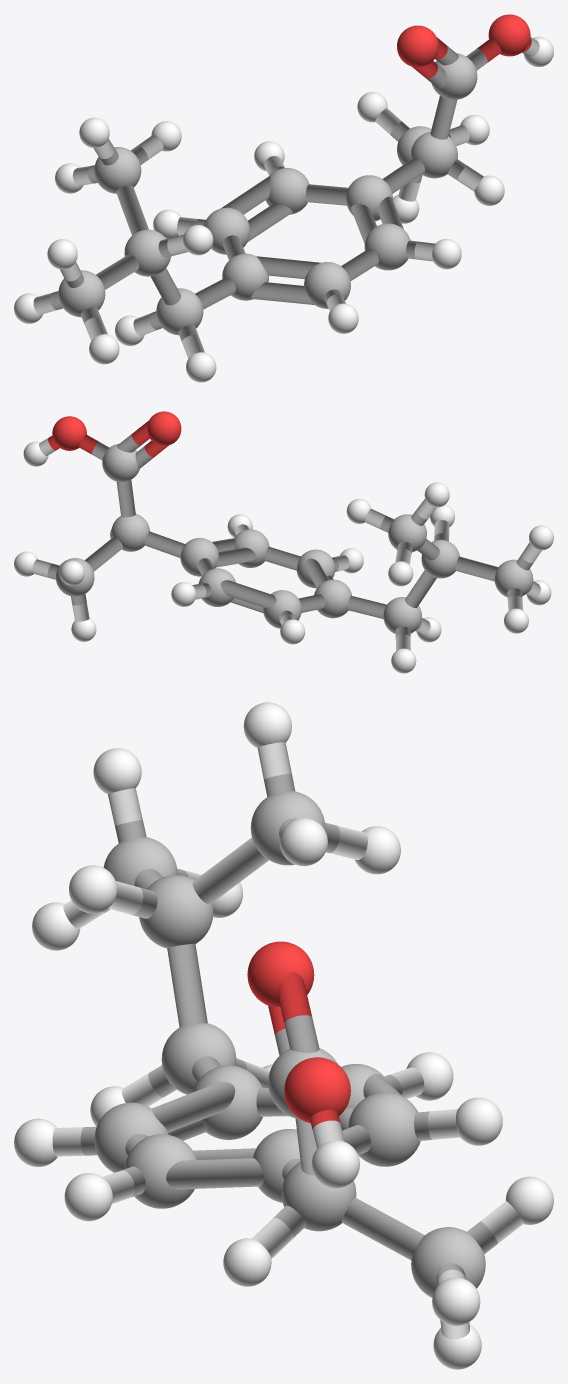
File: ibuprofen.fbx
The picture shows the model from 3 angles, top to bottom: view 1: azimuth 30°, elevation 25°; view 2: azimuth 150°, elevation 25°; view 3: azimuth 270°, elevation 25°; orthographic projection. The views are drawn at different scales.
Visible parts, largest first — view 1: C12_Atom, C7_Atom, C10_Atom, C5_Atom, C9_Atom, C4_Atom, C3_Atom, C8_Atom, C13_Atom, O2_Atom, C11_Atom, O1_Atom (+35 smaller); view 2: C7_Atom, C15_Atom, C5_Atom, C4_Atom, C8_Atom, C9_Atom, C6_Atom, C3_Atom, O2_Atom, O1_Atom, C11_Atom, C12_Atom (+31 smaller); view 3: C13_Atom, C3_Atom, C14_Atom, O1_Atom, C12_Atom, C4_Atom, C7_Atom, C5_Atom, C10_Atom, O2_Atom, C9_Atom, Cylinder36 (+35 smaller).
Part boxes in pixels (x1,y1,x2,y2): C12_Atom: (364, 223, 410, 270); C7_Atom: (411, 131, 457, 178); C10_Atom: (304, 262, 350, 308); C5_Atom: (222, 253, 269, 300); C9_Atom: (94, 147, 141, 193); C4_Atom: (156, 288, 203, 335); C3_Atom: (124, 229, 170, 276); C8_Atom: (58, 270, 105, 317); C13_Atom: (265, 168, 309, 214); O2_Atom: (397, 25, 438, 67); C11_Atom: (204, 207, 250, 254); O1_Atom: (488, 14, 530, 56); C7_Atom: (111, 514, 149, 551); C15_Atom: (102, 444, 139, 481); C5_Atom: (314, 579, 351, 618); C4_Atom: (383, 597, 421, 633); C8_Atom: (494, 559, 533, 597); C9_Atom: (388, 514, 426, 552); C6_Atom: (180, 538, 218, 576); C3_Atom: (421, 539, 459, 578); O2_Atom: (147, 411, 181, 445); O1_Atom: (52, 416, 86, 450); C11_Atom: (263, 590, 301, 628); C12_Atom: (234, 529, 269, 567); C13_Atom: (348, 1092, 420, 1166); C3_Atom: (139, 875, 213, 948); C14_Atom: (411, 1227, 485, 1297); O1_Atom: (284, 1057, 350, 1123); C12_Atom: (124, 1134, 196, 1208); C4_Atom: (161, 1023, 236, 1094); C7_Atom: (281, 1162, 356, 1231); C5_Atom: (193, 1065, 262, 1139); C10_Atom: (94, 1102, 168, 1172); O2_Atom: (247, 941, 314, 1006); C9_Atom: (250, 791, 325, 865); Cylinder36: (166, 1158, 264, 1189).
Bounding box in the file's own units: 458 × 565 × 1099.
